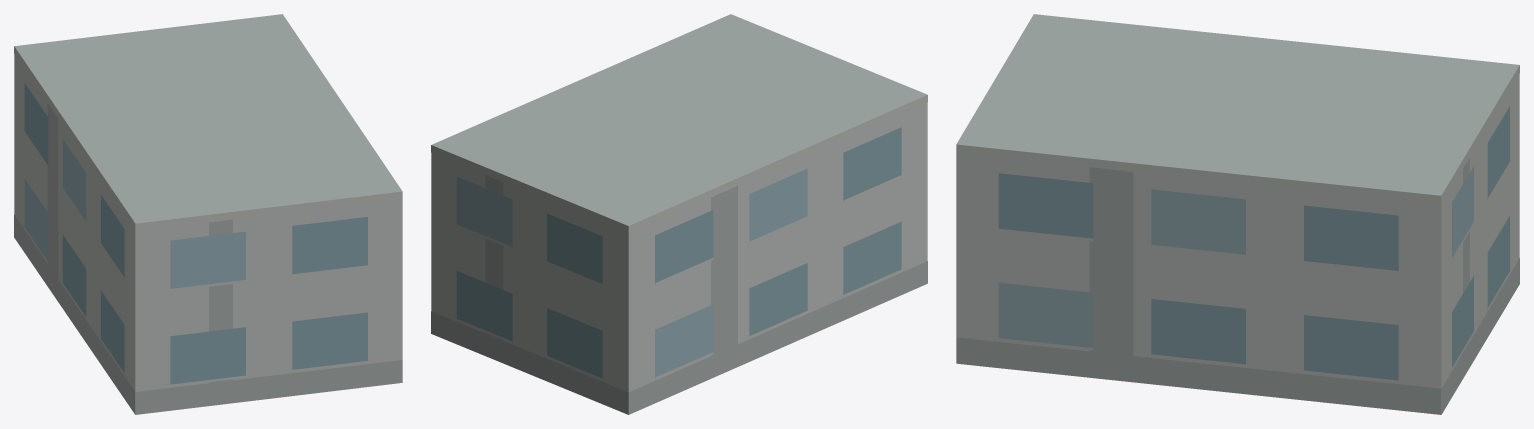
The model's file is survey-upis-32946328.glb.
The picture shows the model from 3 angles, left to right: view 1: azimuth 30°, elevation 25°; view 2: azimuth 150°, elevation 25°; view 3: azimuth 270°, elevation 25°; orthographic projection. The views are drawn at different scales.
Parts seen in each view (by area): view 1: survey-upis-32946328.tmp; view 2: survey-upis-32946328.tmp; view 3: survey-upis-32946328.tmp.
Boxes of the visible parts, bbox=[...] form: survey-upis-32946328.tmp: bbox=[14, 14, 402, 414]; survey-upis-32946328.tmp: bbox=[431, 14, 927, 414]; survey-upis-32946328.tmp: bbox=[956, 14, 1519, 414].
Bounding box in the file's own units: 10.86 × 6.1 × 14.23.
